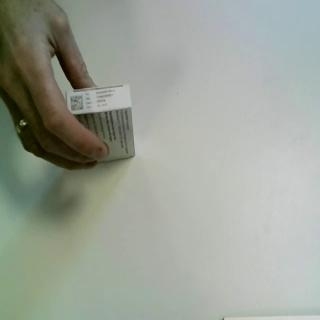oxycontin5mg: (64, 83, 138, 167)
